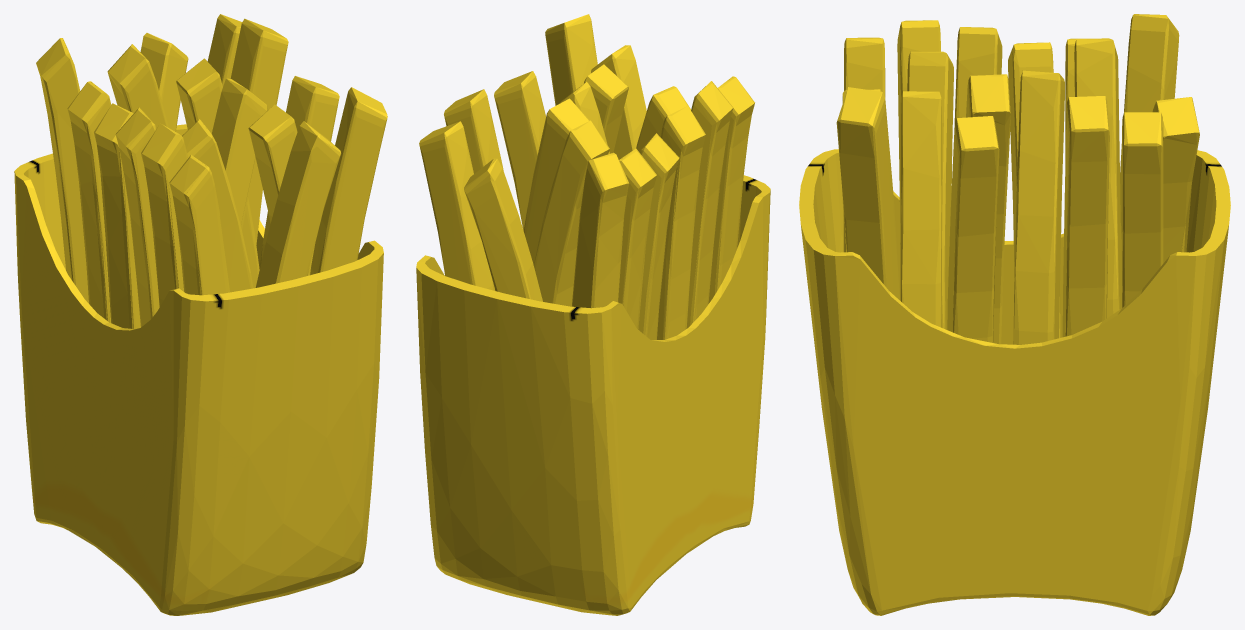
The model's file is fries.fbx.
3 views of the same model, side by side, from view 1: azimuth 30°, elevation 25°; view 2: azimuth 150°, elevation 25°; view 3: azimuth 270°, elevation 25° (orthographic). The views are drawn at different scales.
Parts seen in each view (by area): view 1: Cube.001, Cube; view 2: Cube.001, Cube; view 3: Cube.001, Cube.
Part boxes in pixels (x1=…): Cube.001: x1=14, y1=124, x2=383, y2=615; Cube: x1=36, y1=14, x2=387, y2=328; Cube.001: x1=416, y1=175, x2=770, y2=615; Cube: x1=419, y1=14, x2=754, y2=339; Cube.001: x1=799, y1=149, x2=1230, y2=615; Cube: x1=836, y1=14, x2=1199, y2=344.
Size of the model in its own units: 189 by 405 by 300.
2 materials, 2 textured.
